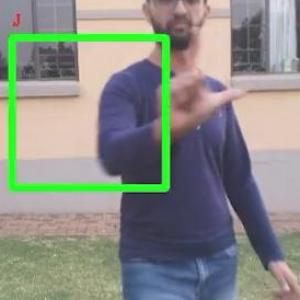land_hand: (145, 22, 243, 141)
